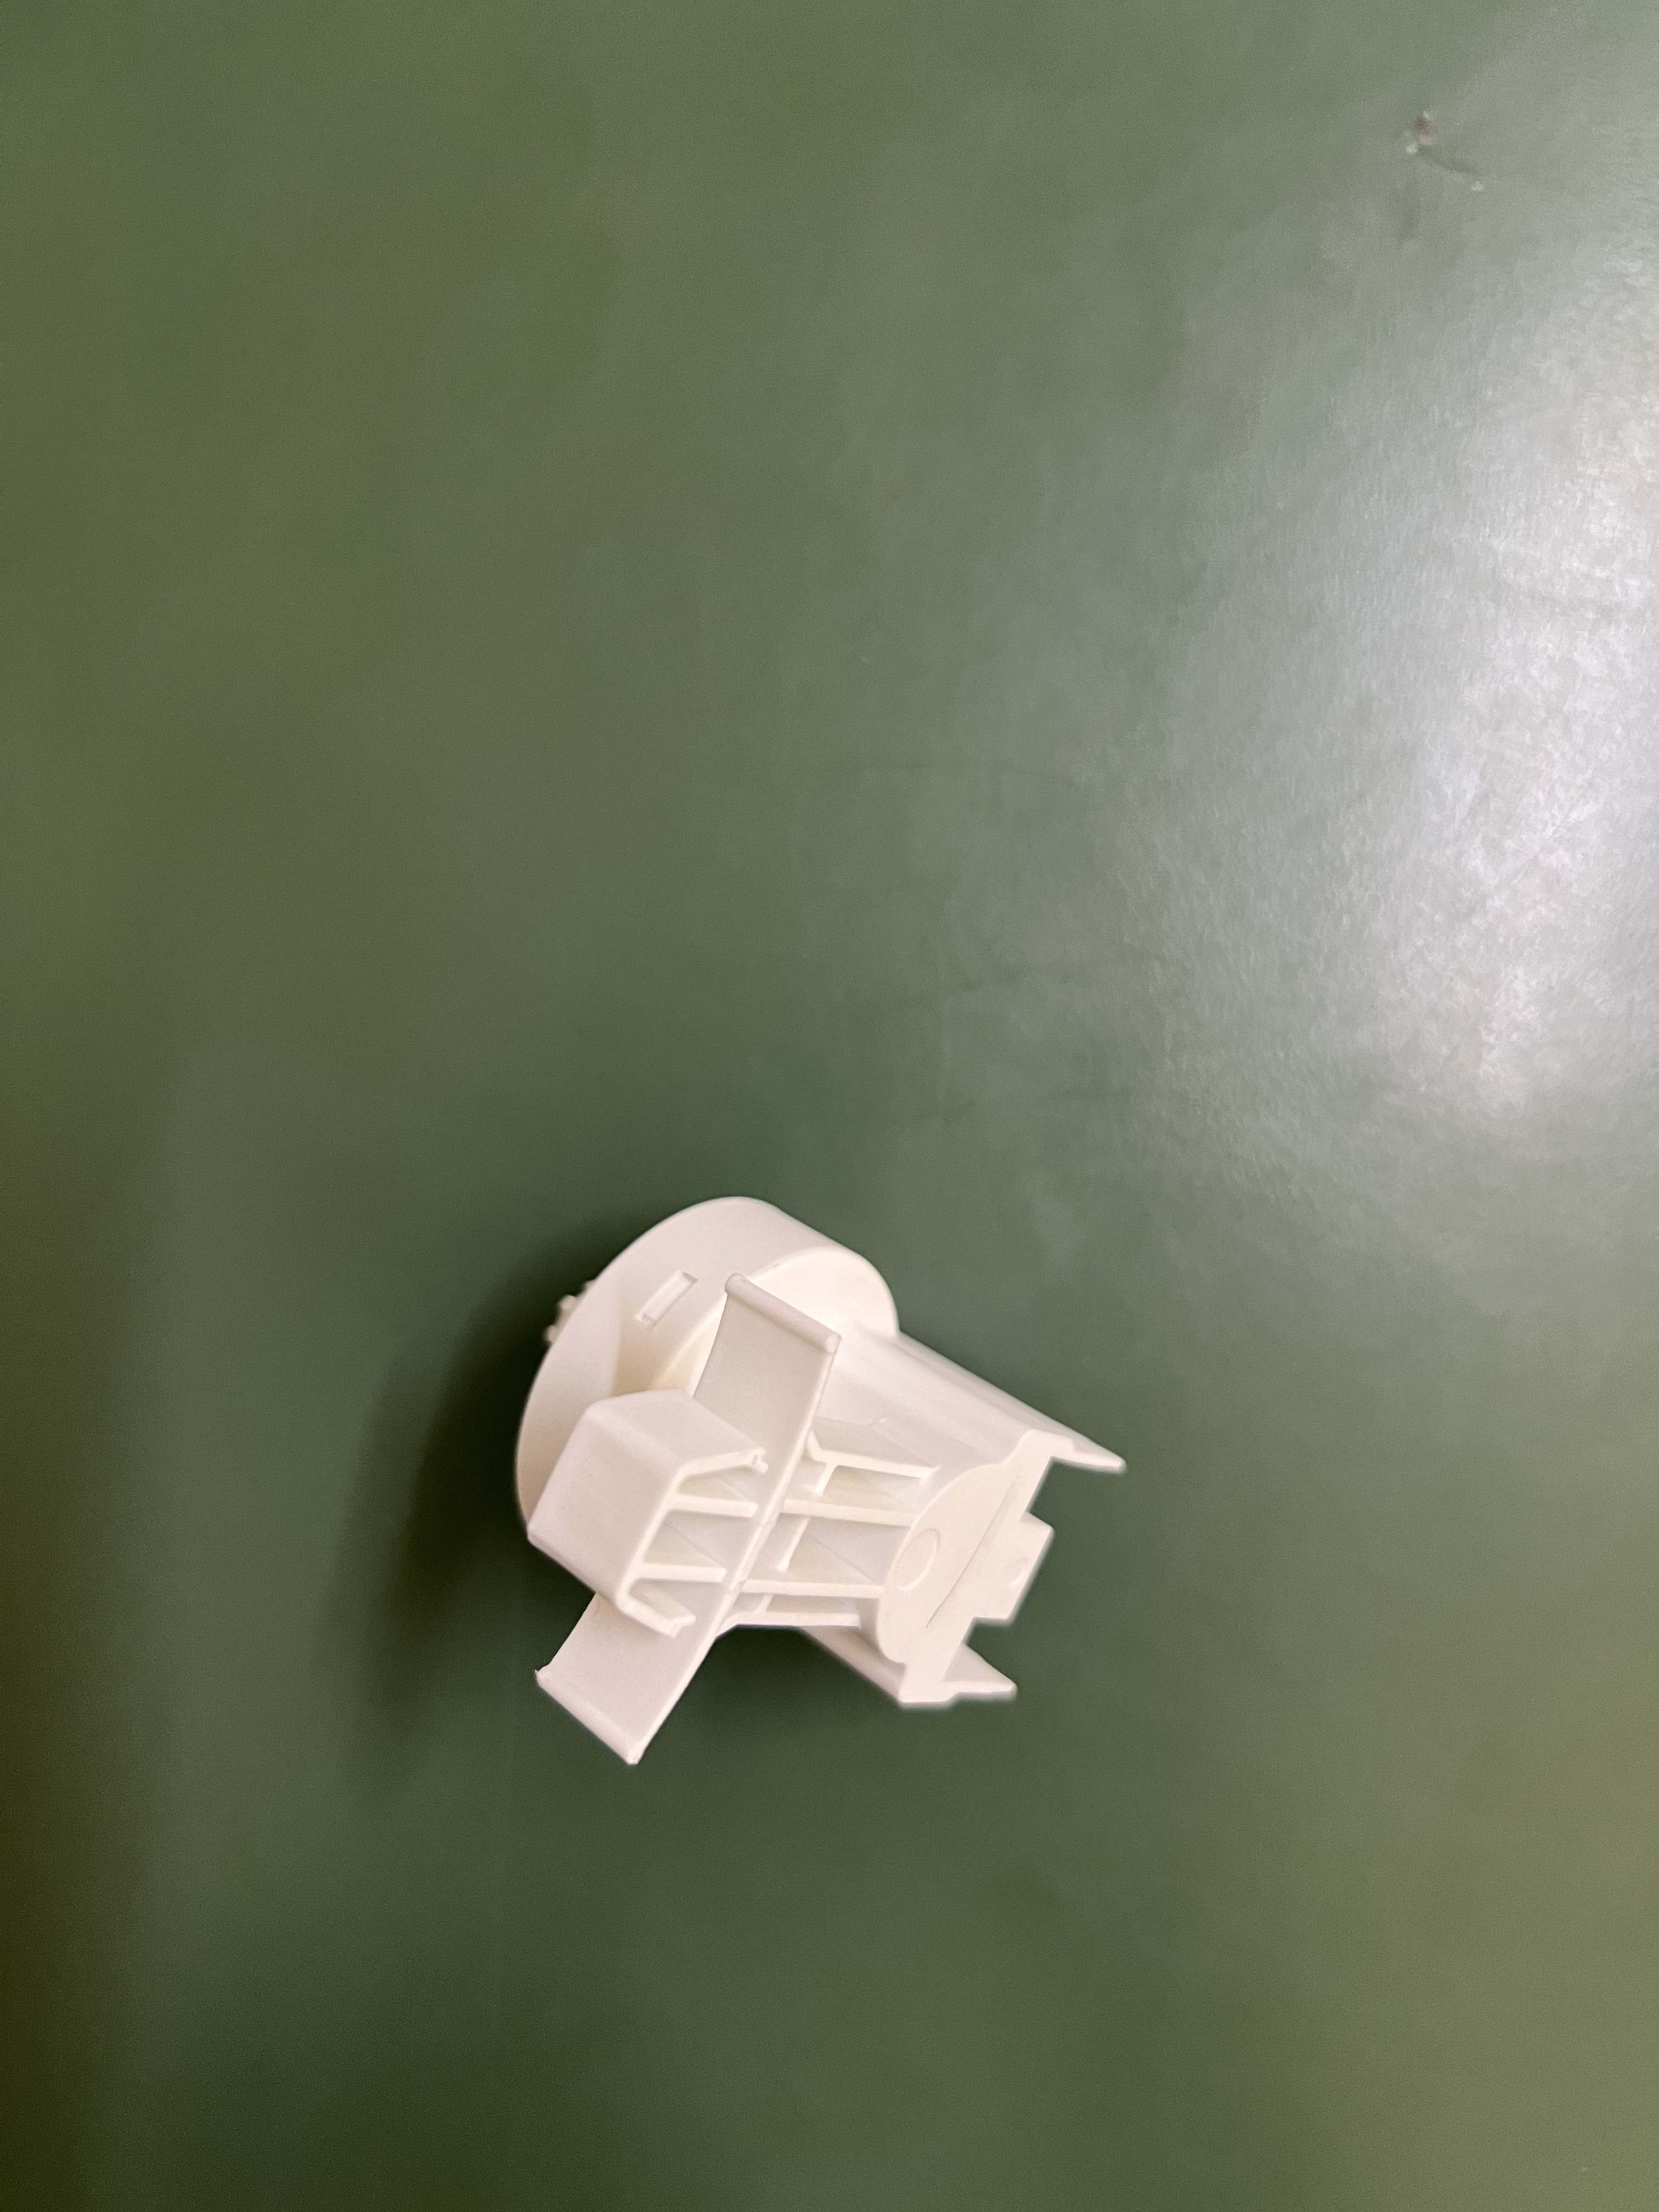pressure_switch_1: (441, 1162, 1143, 1780)
